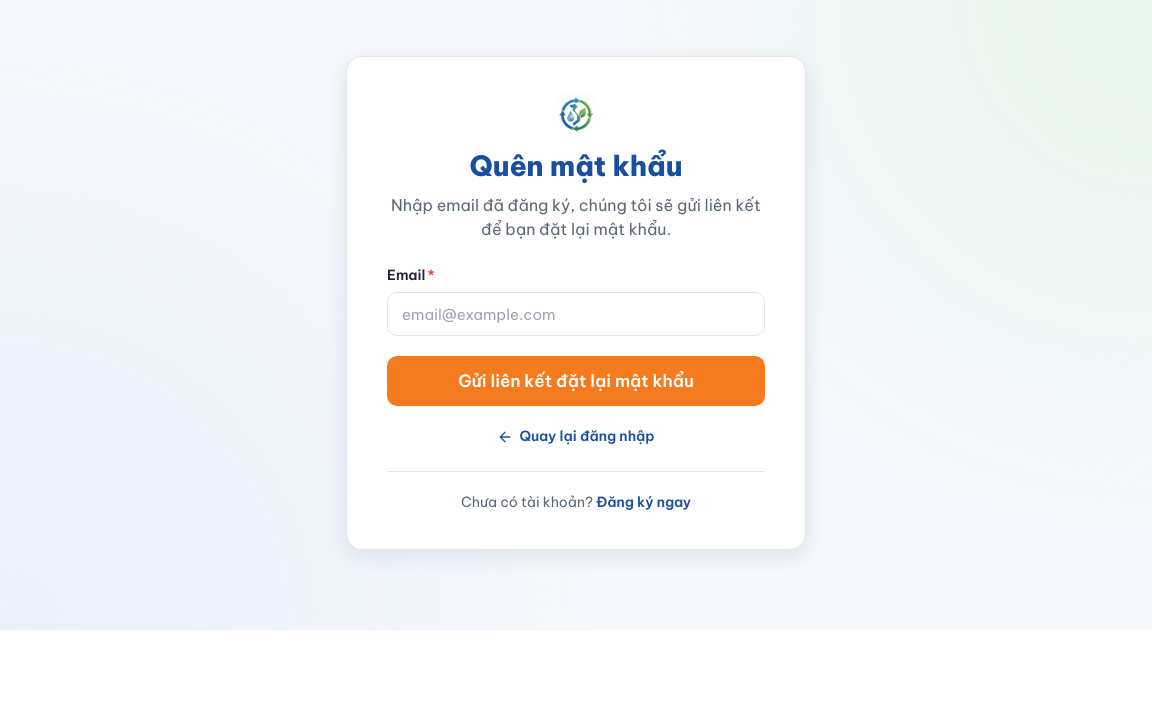
Test: ForgotPasswordPage › shows server errors
This screenshot has width=1152, height=720.
Step 1. Type "an@example.com" into the field labelled "Email*" → (576, 314), box [387,292,765,336]
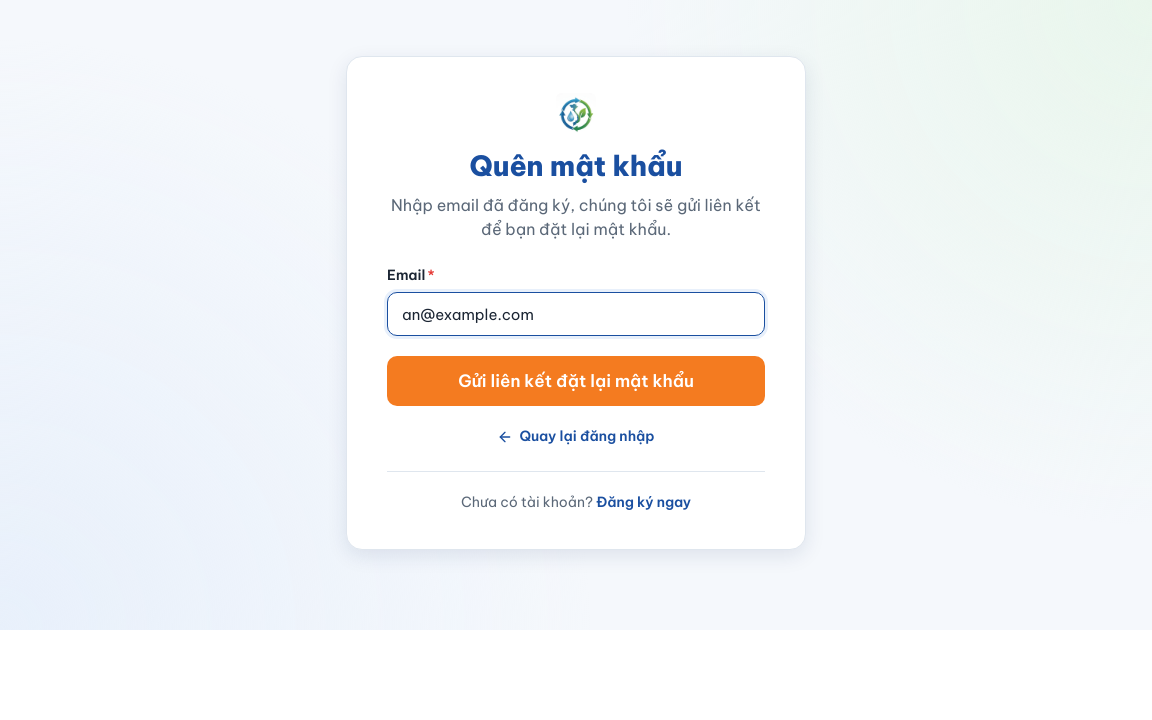
Step 2. Click the button "Gửi liên kết đặt lại mật khẩu" → (576, 381), box [387,356,765,406]
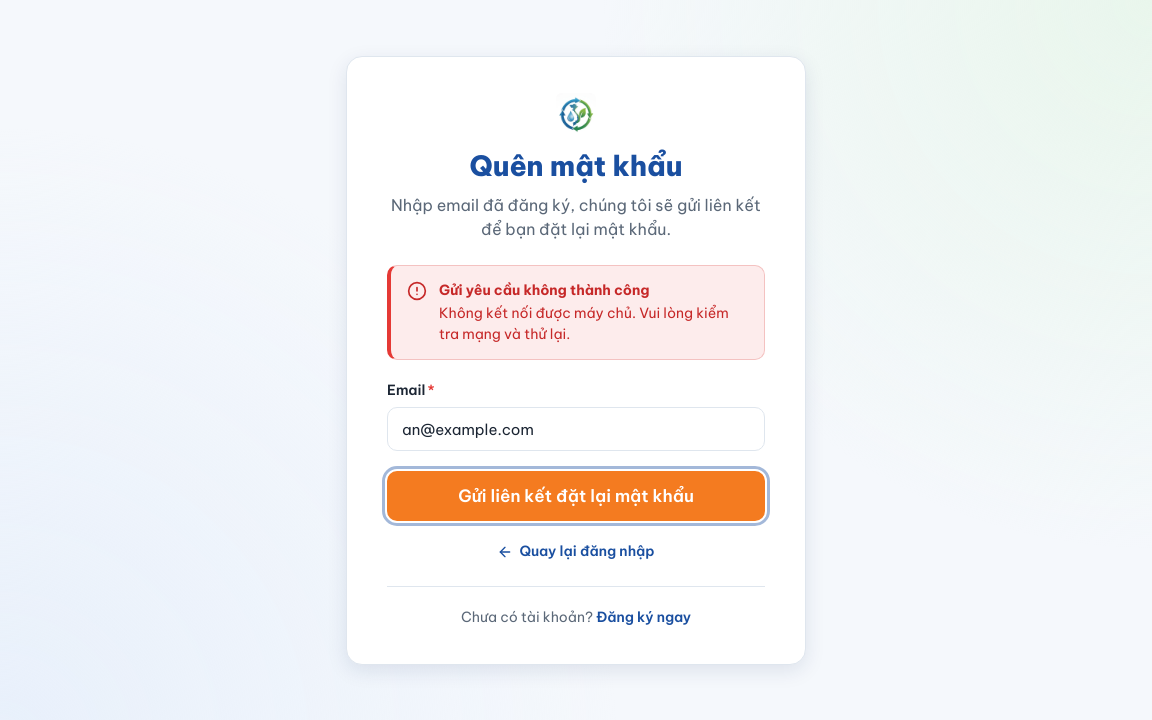
Expected: the text "Không kết nối được máy chủ" is shown, [439,304,729,343]
